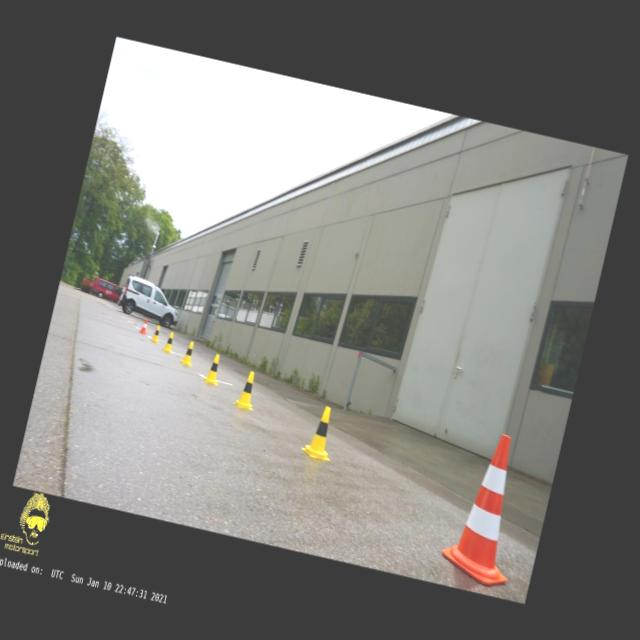large_orange_cone: (436, 426, 539, 589)
orange_cone: (138, 318, 149, 334)
yellow_cone: (299, 402, 342, 461), (232, 368, 260, 410), (202, 352, 223, 385), (179, 338, 197, 366), (161, 329, 176, 354), (150, 323, 162, 343)
